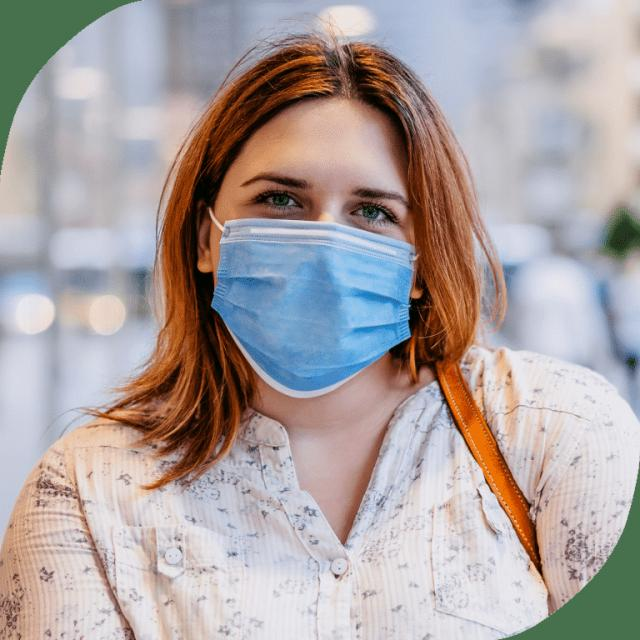1_mascarilla: (205, 206, 418, 399)
